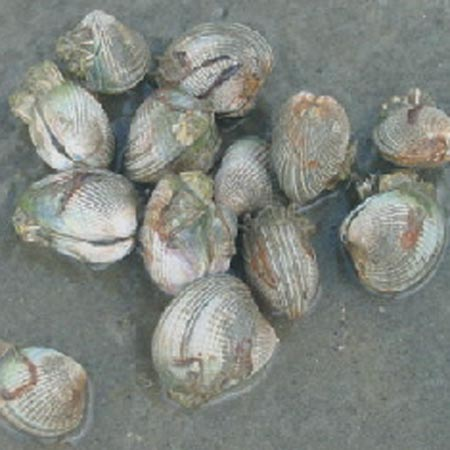cockle: (148, 271, 283, 404), (11, 166, 142, 266), (140, 169, 239, 300), (338, 187, 447, 302), (154, 21, 277, 117), (239, 204, 327, 324), (125, 87, 221, 183), (2, 336, 90, 439), (270, 92, 350, 202), (25, 81, 119, 173), (54, 8, 150, 94), (370, 87, 450, 167), (214, 133, 283, 220)
